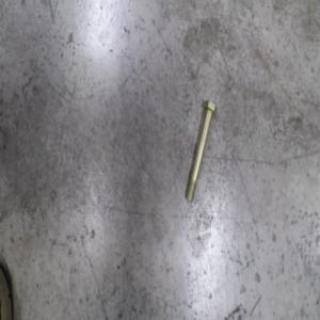Bolttrack_idkeyframe: (183, 99, 217, 203)
